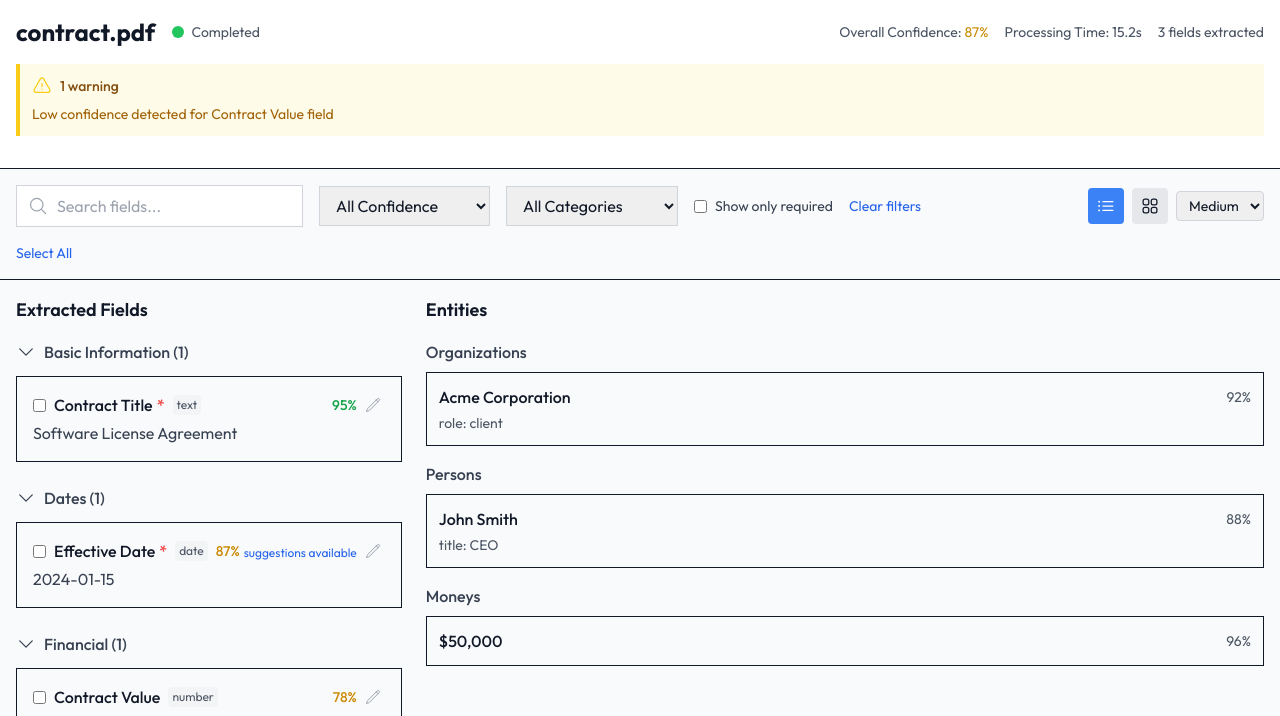
ExtractionResultVisualization › Source Highlighting › should highlight field source on hover
Hover over the element with test id "field-f1" at (209, 419), box left=16, top=376, right=402, bottom=462
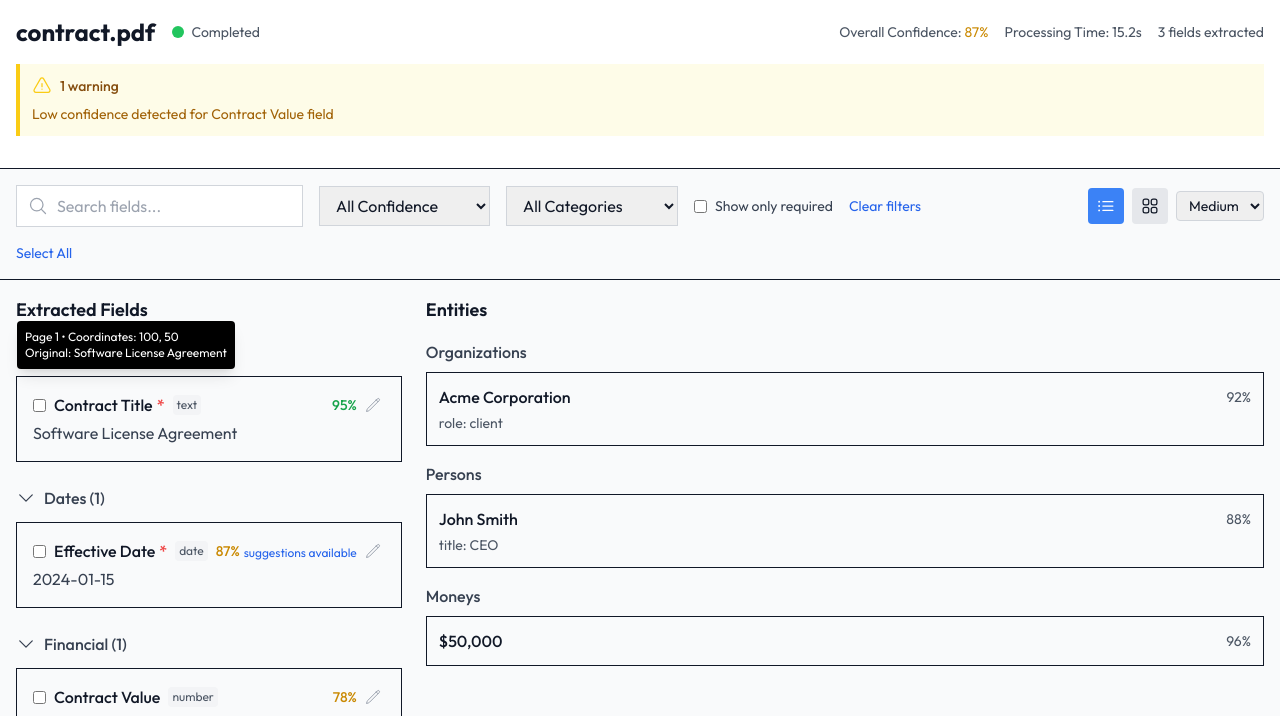
Result: the text "Coordinates: 100, 50" is shown at left=17, top=321, right=235, bottom=369
